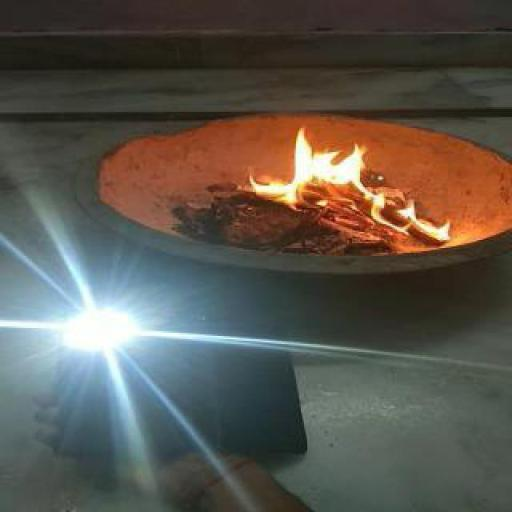smoke: (230, 141, 453, 243)
